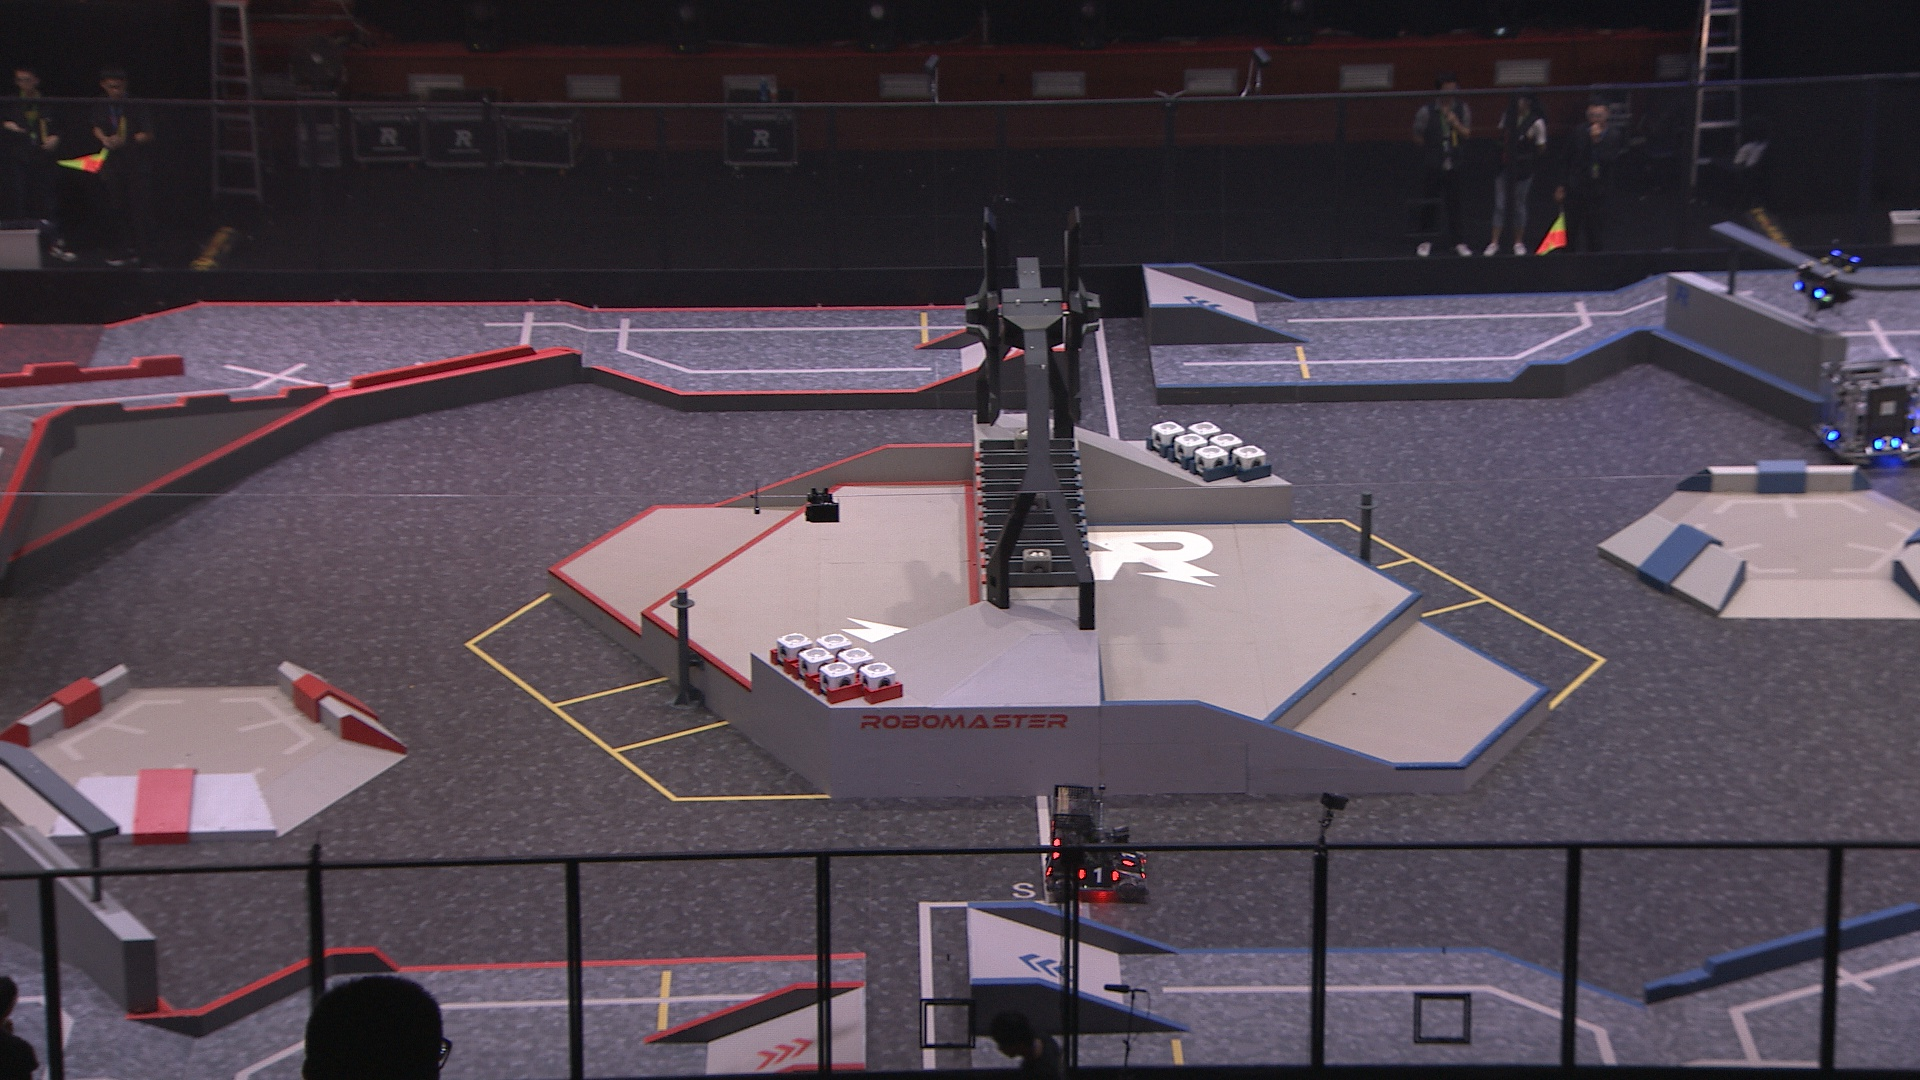armor: (1077, 864, 1122, 887), (1873, 429, 1905, 454), (1793, 278, 1822, 301), (1116, 849, 1138, 872), (1818, 419, 1841, 442), (1039, 851, 1058, 877)
car: (1038, 778, 1149, 905), (1817, 349, 1920, 469)
watcher: (1789, 233, 1859, 328)
